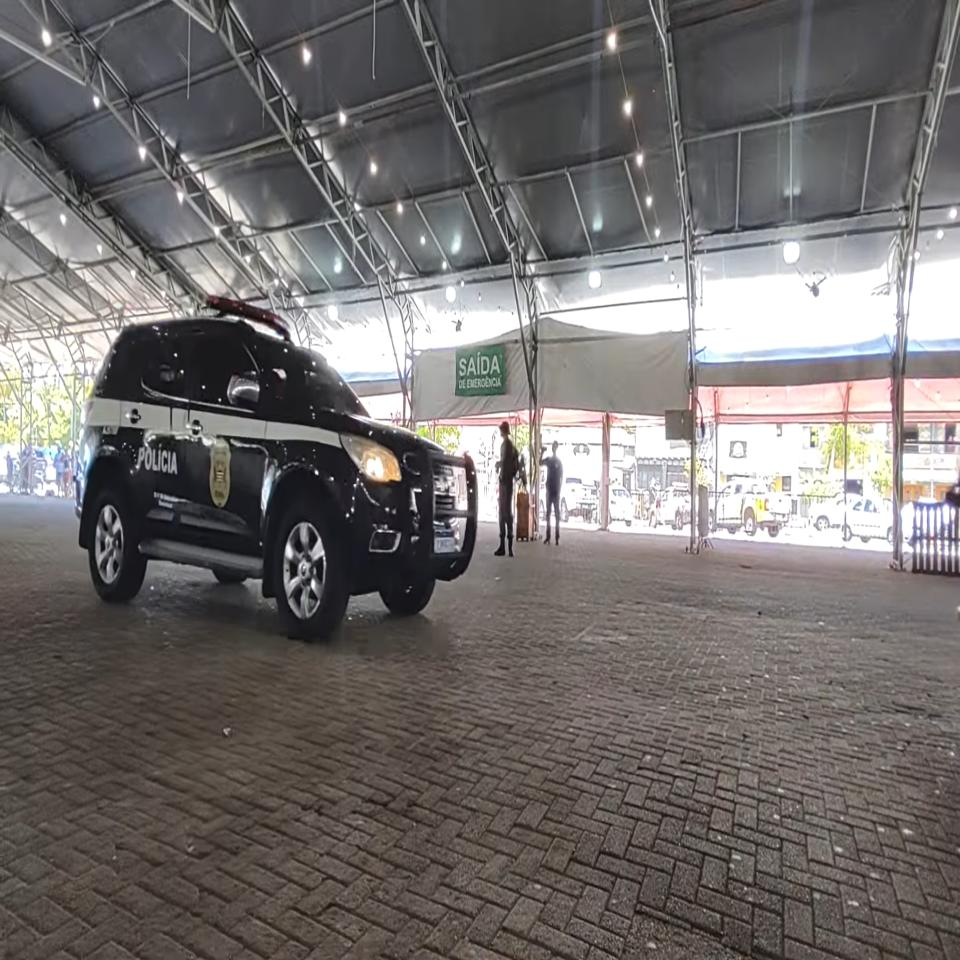viatura: (76, 291, 481, 640)
